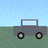vehicle: (14, 20, 46, 39)
